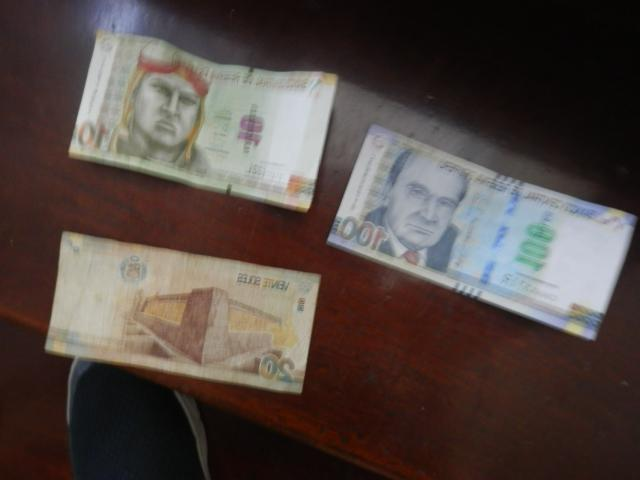B10: (67, 33, 336, 211)
B100: (326, 125, 634, 340)
B20: (44, 231, 321, 393)
